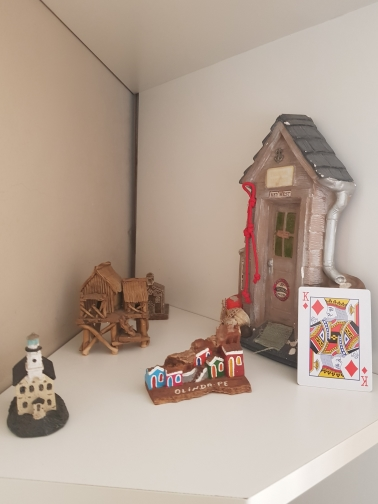king: (294, 286, 373, 392)
